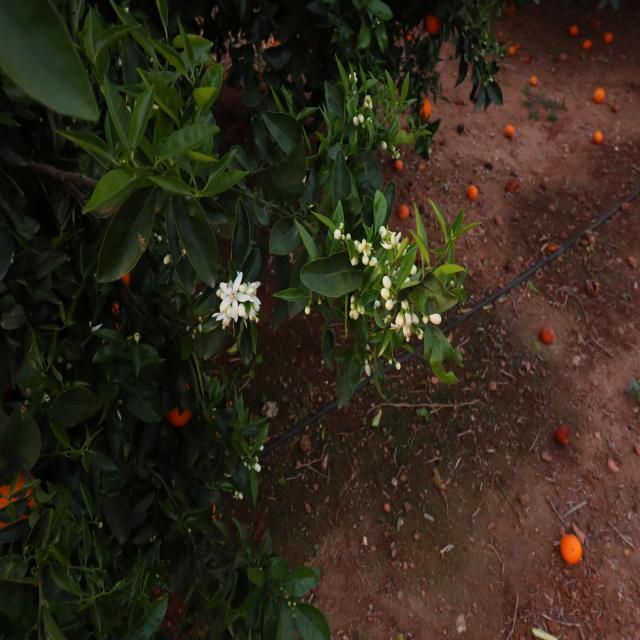Bunga: (220, 272, 250, 322), (380, 231, 402, 250), (246, 282, 262, 304), (402, 312, 413, 340), (212, 312, 232, 327), (248, 308, 260, 324), (361, 240, 372, 256), (429, 314, 442, 326), (364, 359, 372, 376), (238, 303, 246, 318), (383, 276, 392, 289), (163, 253, 172, 266), (386, 298, 394, 312), (396, 312, 404, 326), (358, 114, 366, 128), (234, 491, 244, 502), (365, 96, 373, 109), (216, 288, 226, 298), (350, 310, 360, 320), (358, 304, 366, 316), (380, 226, 388, 238), (240, 282, 248, 293), (382, 288, 389, 300), (412, 314, 419, 326), (410, 264, 417, 276), (251, 302, 260, 311), (372, 300, 380, 310), (416, 330, 424, 340), (254, 464, 262, 474), (368, 258, 378, 266), (356, 242, 364, 252), (334, 230, 342, 240), (401, 299, 408, 310), (351, 295, 356, 309), (422, 314, 429, 324), (353, 116, 359, 127), (362, 256, 370, 264), (351, 257, 358, 266), (342, 234, 351, 240), (306, 304, 310, 316), (381, 142, 387, 150), (339, 222, 344, 230), (354, 72, 357, 84), (396, 362, 401, 369), (368, 354, 372, 360), (366, 345, 370, 350), (388, 360, 392, 365)
Jeruk Sudah Matang: (0, 478, 37, 525), (561, 532, 583, 564), (170, 404, 192, 428), (426, 14, 438, 34), (420, 98, 432, 117), (396, 204, 409, 220), (467, 184, 477, 202), (395, 160, 402, 171)
